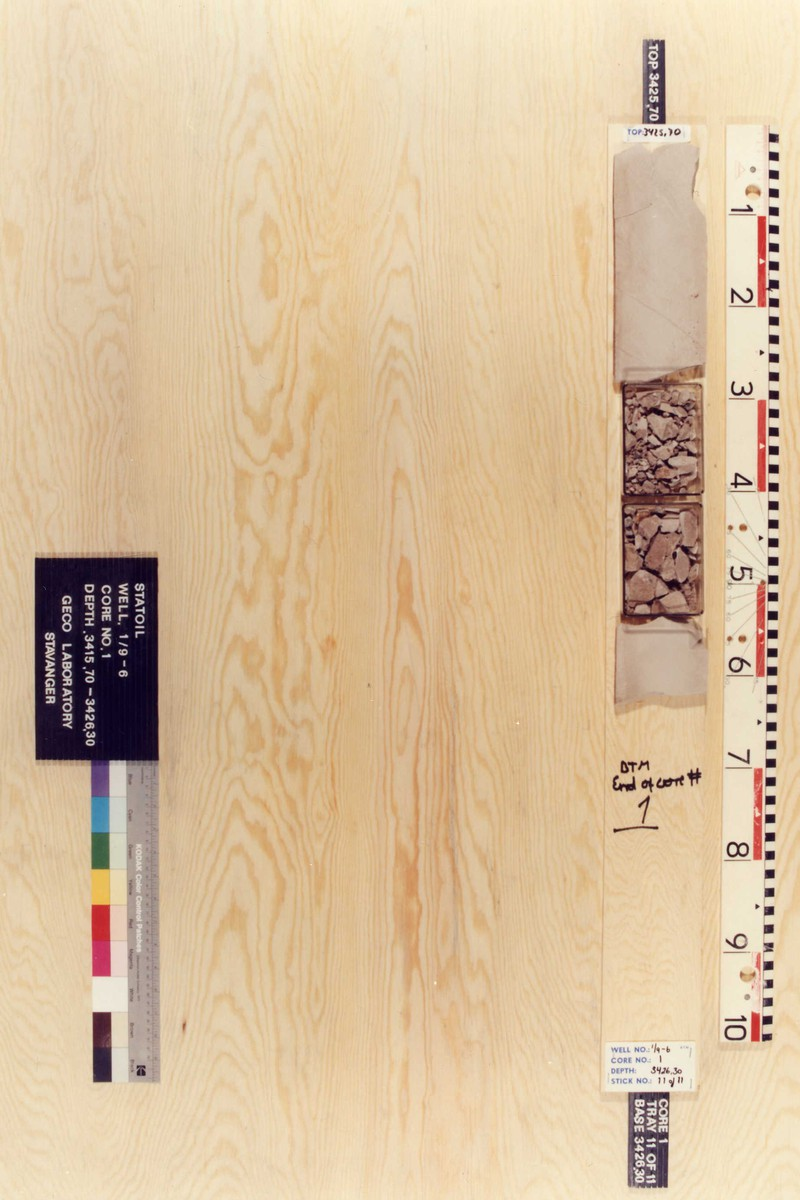core: (612, 143, 704, 714)
